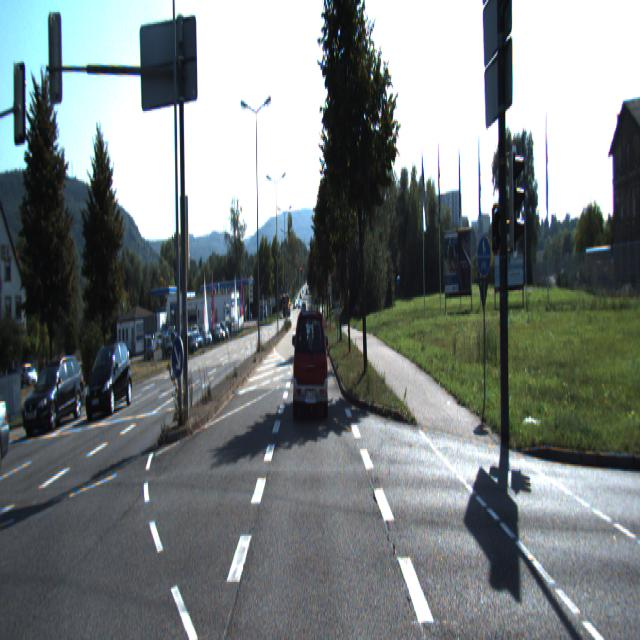Car: (22, 358, 85, 434), (83, 342, 132, 424), (293, 305, 328, 414)
